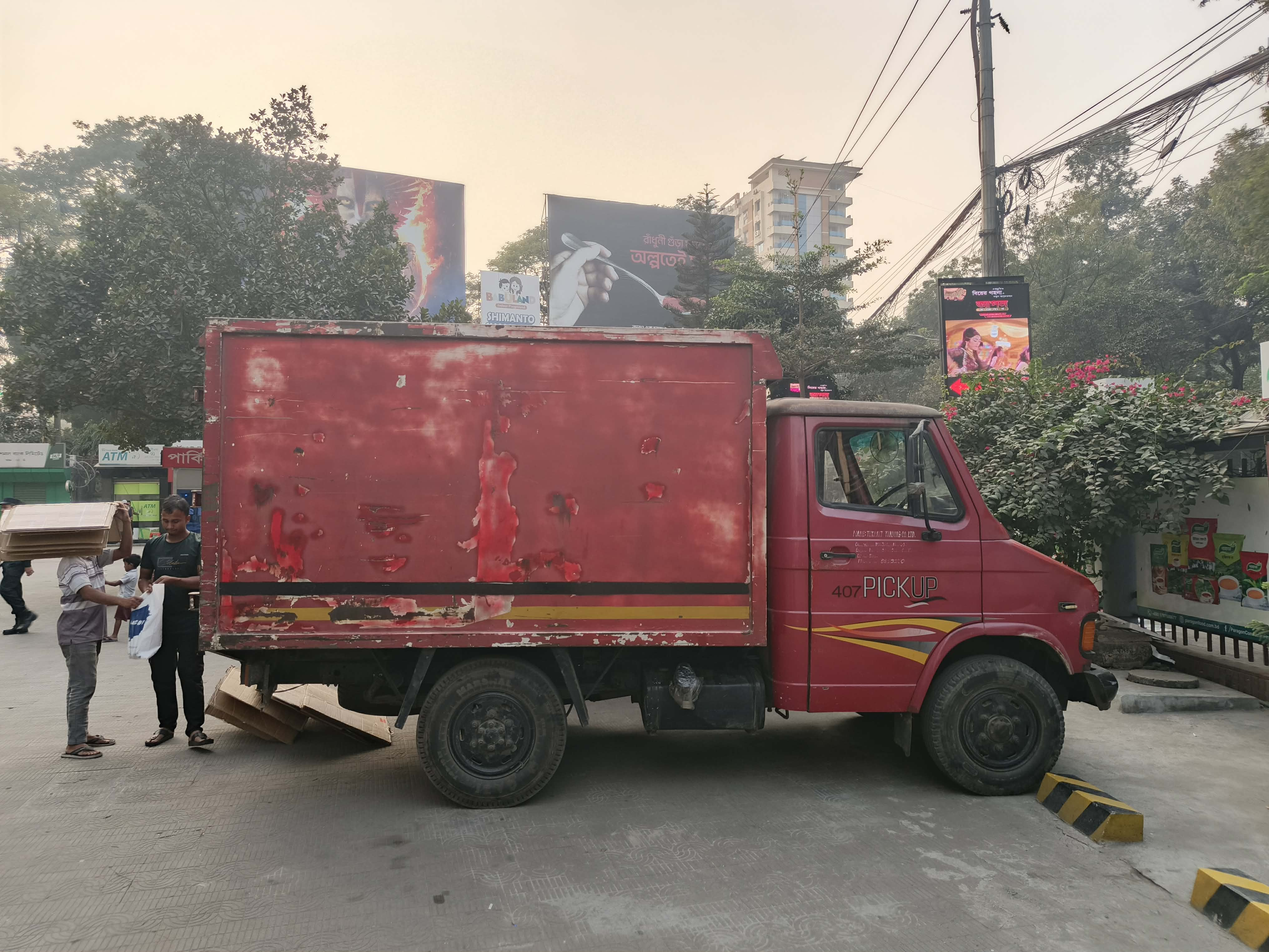Pickup: (133, 249, 1160, 837)
